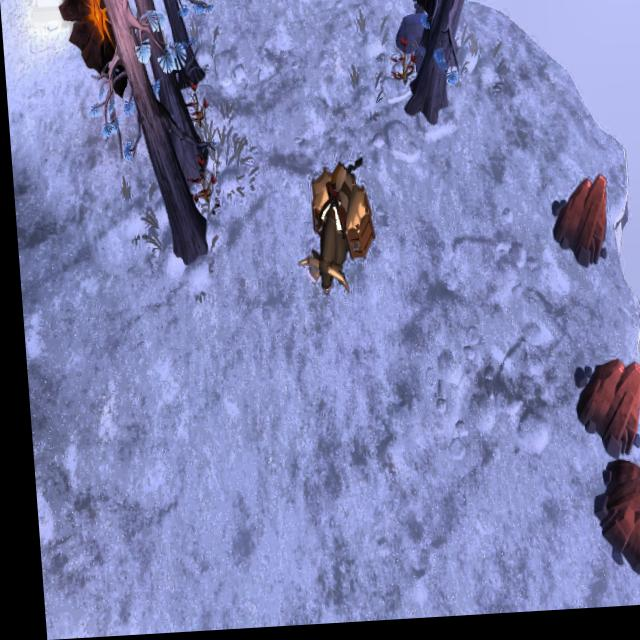rock_t5: (563, 363, 639, 463), (586, 466, 640, 589), (542, 183, 613, 266)
